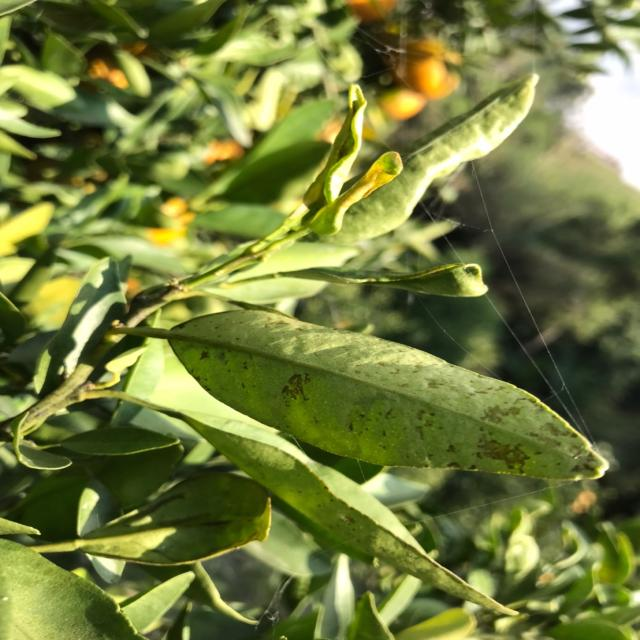melanose: (179, 295, 596, 498)
